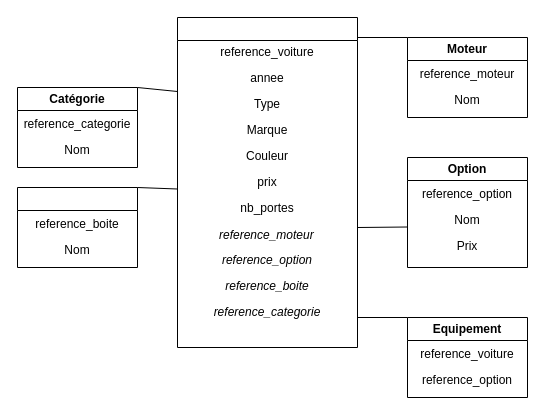
The diagram is 545 pixels wide and 415 high, and some of its shapes have lost their labels. The box of each missing label's shape, as (x1, y1, x2, y2) in pixels:
Vehicule: (176, 16, 358, 348)
Vitesse: (16, 186, 138, 268)
